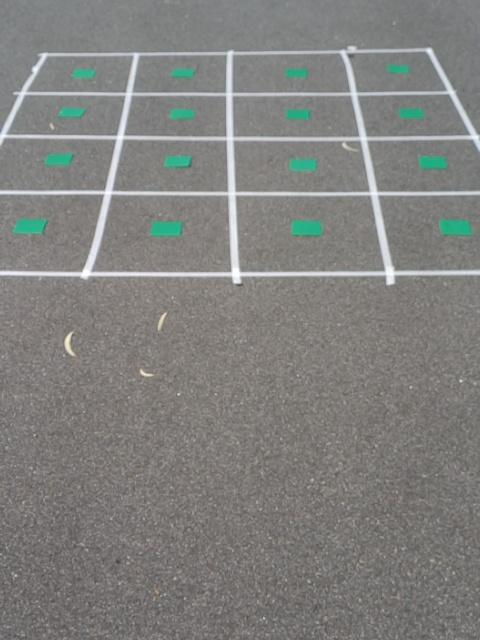weed: (438, 217, 471, 237), (291, 218, 322, 238), (149, 221, 183, 238), (14, 218, 48, 234), (417, 154, 448, 171), (289, 156, 317, 173), (42, 152, 75, 166), (397, 105, 425, 121), (162, 155, 192, 169), (284, 108, 312, 121), (59, 106, 86, 119), (284, 66, 307, 79), (386, 62, 409, 75), (170, 108, 194, 119), (171, 68, 192, 79), (72, 67, 92, 78)
